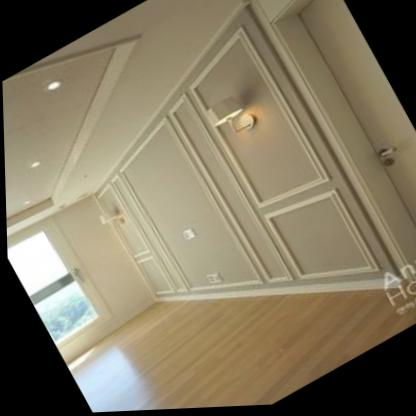Futec frame: (162, 15, 387, 328), (114, 120, 270, 294), (91, 183, 179, 307)
Gypsum Board: (2, 0, 261, 239)
